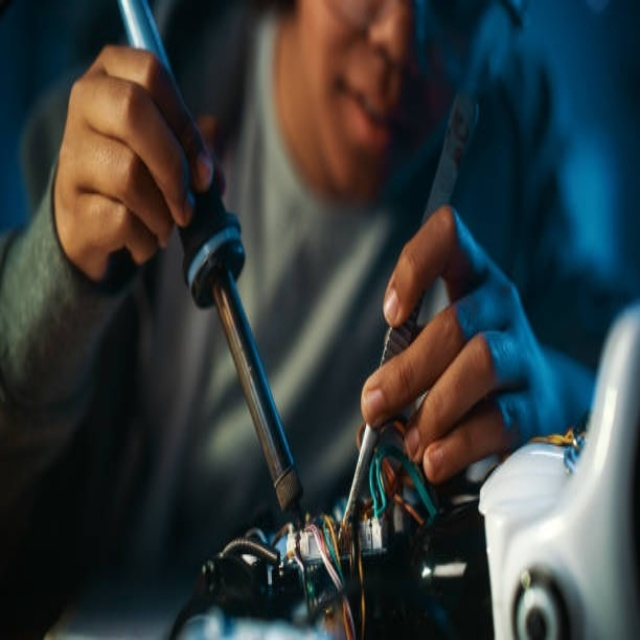Sin_guantes: (361, 195, 553, 485), (53, 33, 216, 286)
Sin_mascara: (312, 67, 412, 184)
